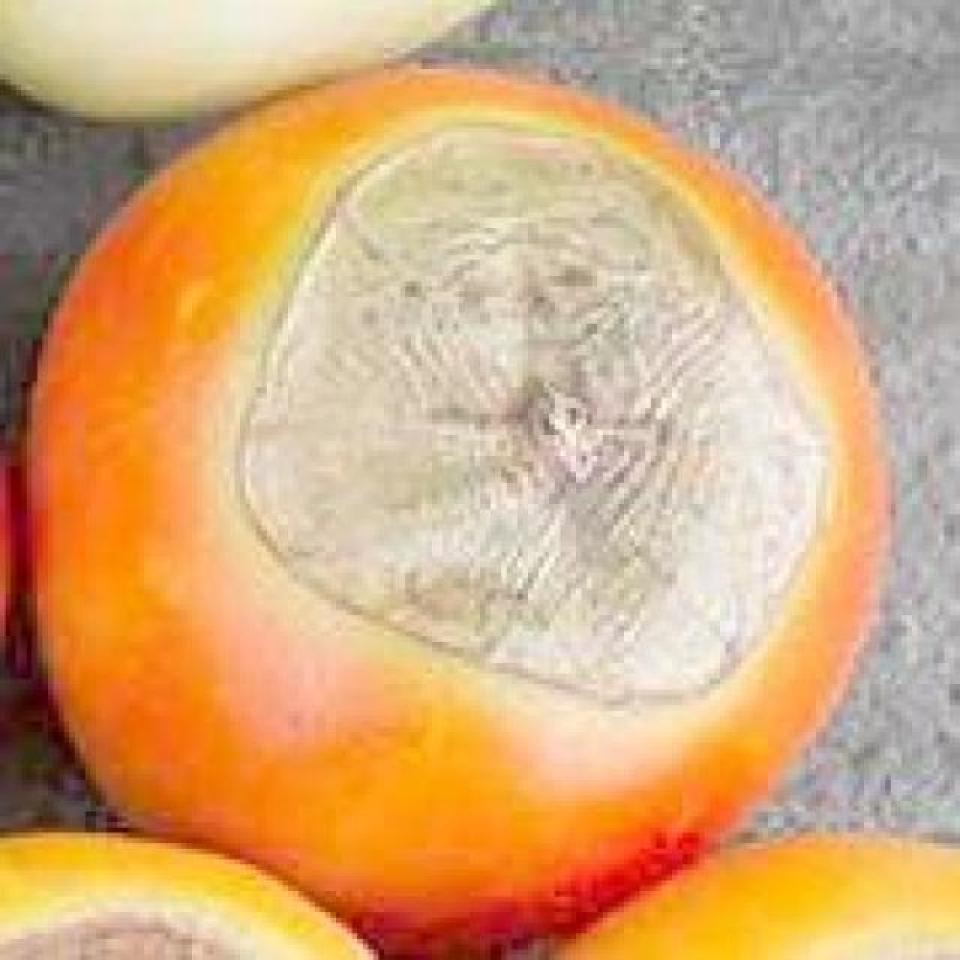Blossom_end_rot: (214, 111, 848, 732), (6, 895, 341, 960)
